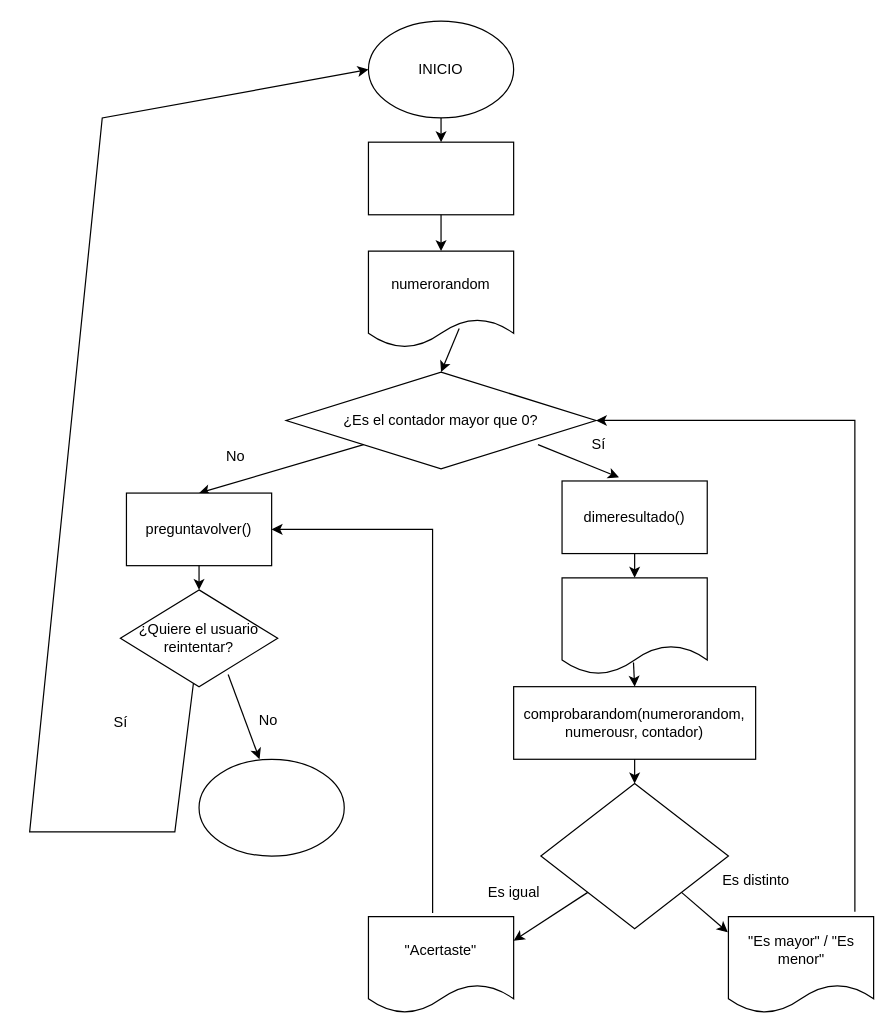
The diagram is 895 pixels wide and 1035 high, and some of its shapes have lost their labels. Each missing label, with the centre of its shape:
"determinarandom()" goes at pixel 440 178.
"FIN" goes at pixel 271 807.
"numerousr" goes at pixel 634 626.
"¿Cómo se compara el número generado random con el introducido?" goes at pixel 634 855.
